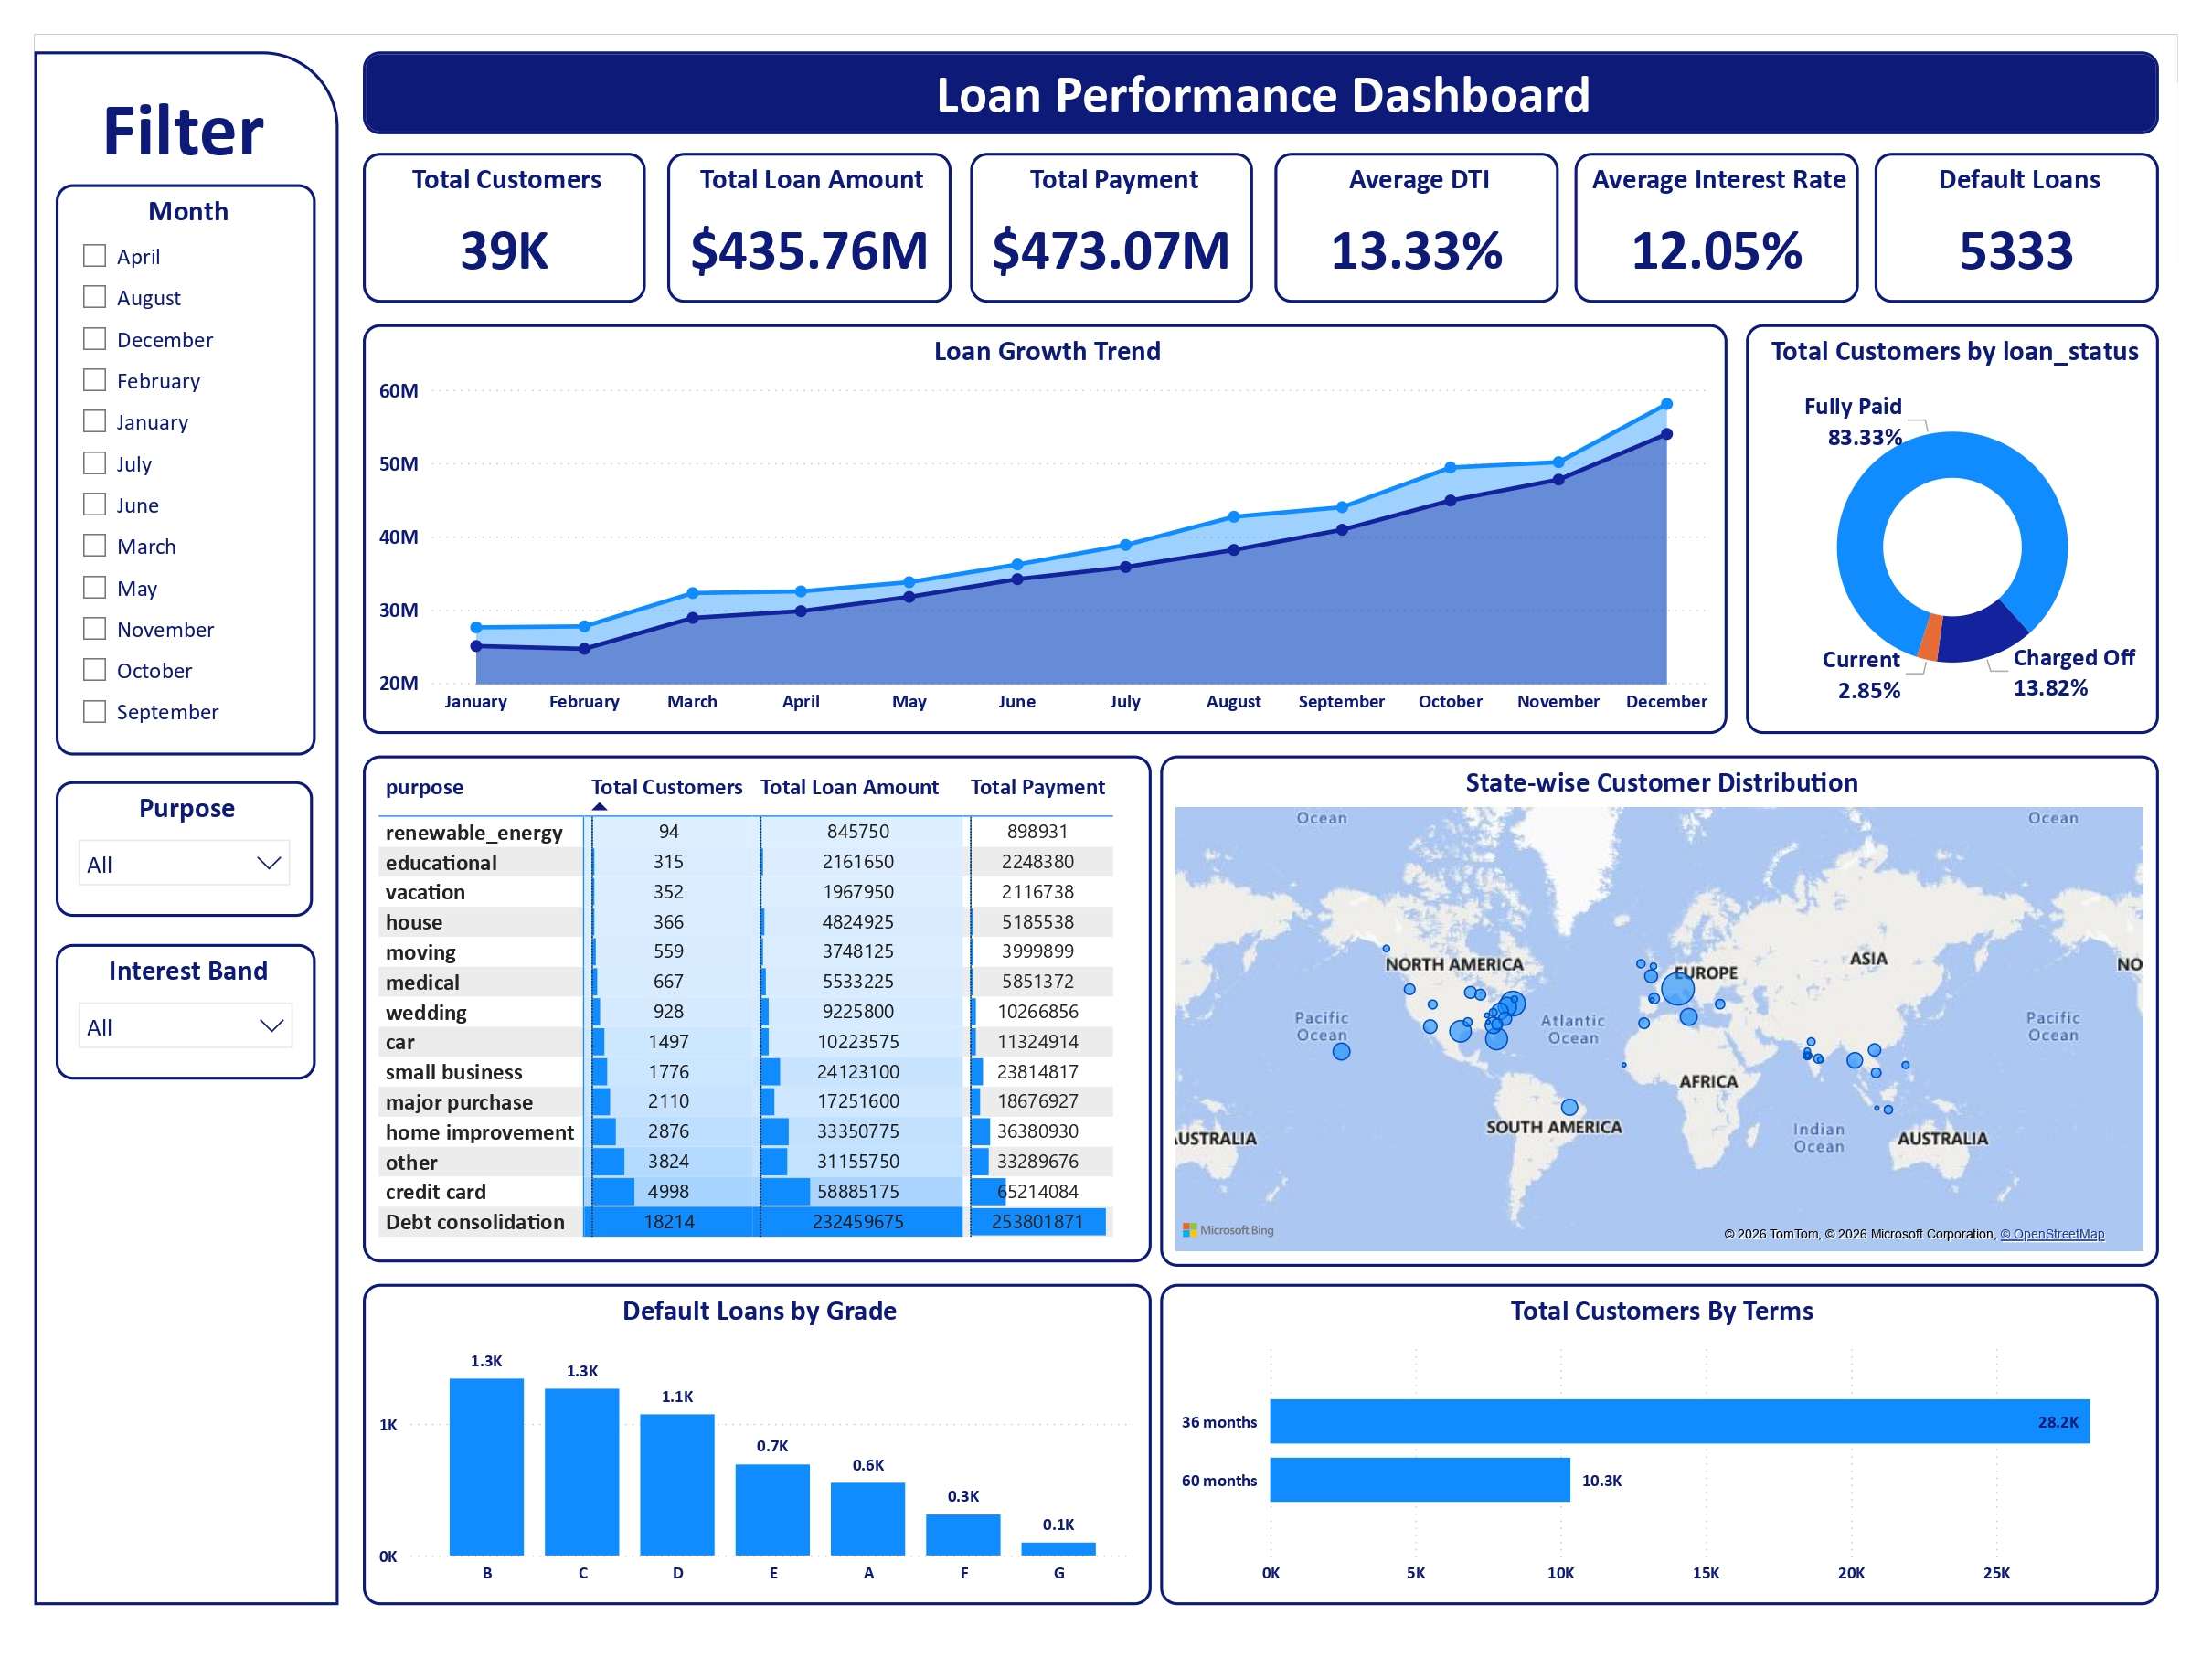

Layout of this report page (visuals, bound fields, positions):
{"tool":"powerbi","page":{"name":"Overview","canvas":[1500,1120],"ordinal":0},"visuals":[{"type":"card","title":"Total Customers","fields":{"Values":["loan.Total Customers"]},"box":[230,83.3,198.3,105],"z":0},{"type":"card","title":"Default Loans","fields":{"Values":["loan.Default Loans"]},"box":[1288.3,83.3,198.3,105],"z":1000},{"type":"card","title":"Average Interest Rate","fields":{"Values":["loan.Avg Interest Rate"]},"box":[1078.3,83.3,198.3,105],"z":2000},{"type":"card","title":"Average DTI","fields":{"Values":["loan.Avg DTI"]},"box":[868.3,83.3,198.3,105],"z":3000},{"type":"card","title":"Total Payment","fields":{"Values":["loan.Total Payment"]},"box":[655,83.3,198.3,105],"z":4000},{"type":"card","title":"Total Loan Amount","fields":{"Values":["loan.Total Loan Amount"]},"box":[443.3,83.3,198.3,105],"z":5000},{"type":"areaChart","title":"Loan Growth Trend","fields":{"Category":["loan.issue_date.Variation.Date Hierarchy.Month"],"Y":["loan.Total Payment","loan.Total Loan Amount"]},"box":[230,203.3,955,286.7],"z":6000},{"type":"donutChart","fields":{"Category":["loan.loan_status"],"Y":["loan.Total Customers"]},"box":[1198.3,203.3,288.3,286.7],"z":7000},{"type":"pivotTable","title":"Loan Purpose Analysis","fields":{"Rows":["loan.purpose"],"Values":["loan.Total Customers","loan.Total Loan Amount","loan.Total Payment"]},"box":[230,505,551.7,355],"z":8000},{"type":"columnChart","title":"Default Loans by Grade","fields":{"Category":["loan.grade"],"Y":["loan.Default Loans"]},"box":[230,875,551.7,225],"z":9000},{"type":"map","title":"State-wise Customer Distribution","fields":{"Category":["loan.address_state"],"Size":["loan.Total Customers"]},"box":[788.3,505,698.3,358.3],"z":10000},{"type":"clusteredBarChart","title":" Total Customers By Terms ","fields":{"Y":["loan.Total Customers"],"Category":["loan.term"]},"box":[788.3,875,698.3,225],"z":11000},{"type":"shape","box":[0,11.7,213.3,1088.3],"z":12000},{"type":"textbox","box":[15,28.3,178.3,83.3],"z":13000},{"type":"slicer","title":"Month","fields":{"Values":["loan.Month"]},"box":[15,105,181.7,400],"z":14000},{"type":"slicer","title":"Purpose","fields":{"Values":["loan.purpose"]},"box":[15,523.3,180,95],"z":15000},{"type":"slicer","title":"Interest Band","fields":{"Values":["loan.Interest Band"]},"box":[15,636.7,181.7,95],"z":16000},{"type":"textbox","title":"Loan Performance Dashboard","box":[230,11.7,1256.7,58.3],"z":17000}]}

Visuals, with their boxes on the page's 1500x1120 design canvas (x1, y1, x2, y2). These are canvas units, not pixel positions in the 2212x1668 screenshot, which may show the page scaled, cropped or inside an application window:
"Total Customers" card: x1=230 y1=83 x2=428 y2=188
"Default Loans" card: x1=1288 y1=83 x2=1487 y2=188
"Average Interest Rate" card: x1=1078 y1=83 x2=1277 y2=188
"Average DTI" card: x1=868 y1=83 x2=1067 y2=188
"Total Payment" card: x1=655 y1=83 x2=853 y2=188
"Total Loan Amount" card: x1=443 y1=83 x2=642 y2=188
"Loan Growth Trend" areaChart: x1=230 y1=203 x2=1185 y2=490
donutChart - loan.loan_status x loan.Total Customers: x1=1198 y1=203 x2=1487 y2=490
"Loan Purpose Analysis" pivotTable: x1=230 y1=505 x2=782 y2=860
"Default Loans by Grade" columnChart: x1=230 y1=875 x2=782 y2=1100
"State-wise Customer Distribution" map: x1=788 y1=505 x2=1487 y2=863
" Total Customers By Terms " clusteredBarChart: x1=788 y1=875 x2=1487 y2=1100
shape: x1=0 y1=12 x2=213 y2=1100
textbox: x1=15 y1=28 x2=193 y2=112
"Month" slicer: x1=15 y1=105 x2=197 y2=505
"Purpose" slicer: x1=15 y1=523 x2=195 y2=618
"Interest Band" slicer: x1=15 y1=637 x2=197 y2=732
"Loan Performance Dashboard" textbox: x1=230 y1=12 x2=1487 y2=70
